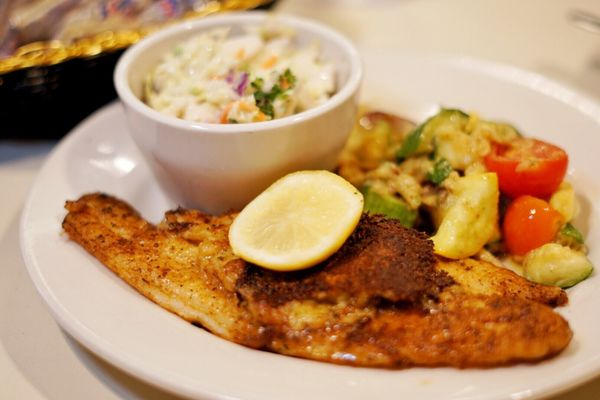sushi: (112, 3, 363, 215)
taco: (229, 168, 364, 272)
